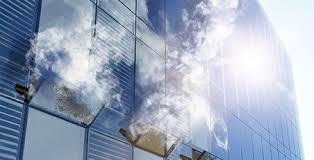smoke: (138, 0, 243, 149), (23, 1, 130, 113)
